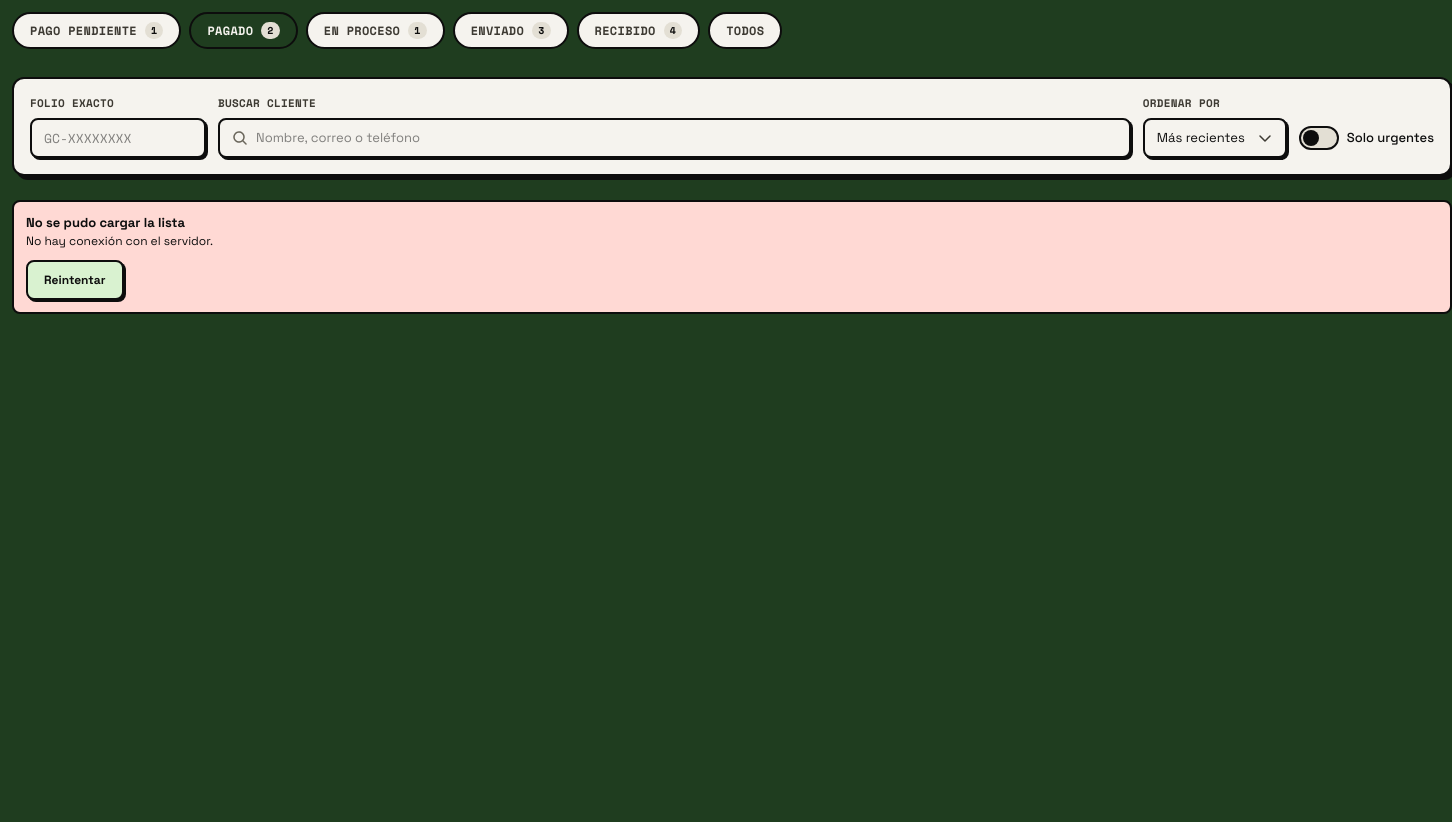
Test: OrdersPage: vista previa, lote y estados › si la lista falla muestra el error de la API y reintenta
Expected: the text "No hay conexión con el servidor." is shown, [26,232,213,252]
Click the button "Reintentar". click: (75, 280)
box: [26,260,124,300]
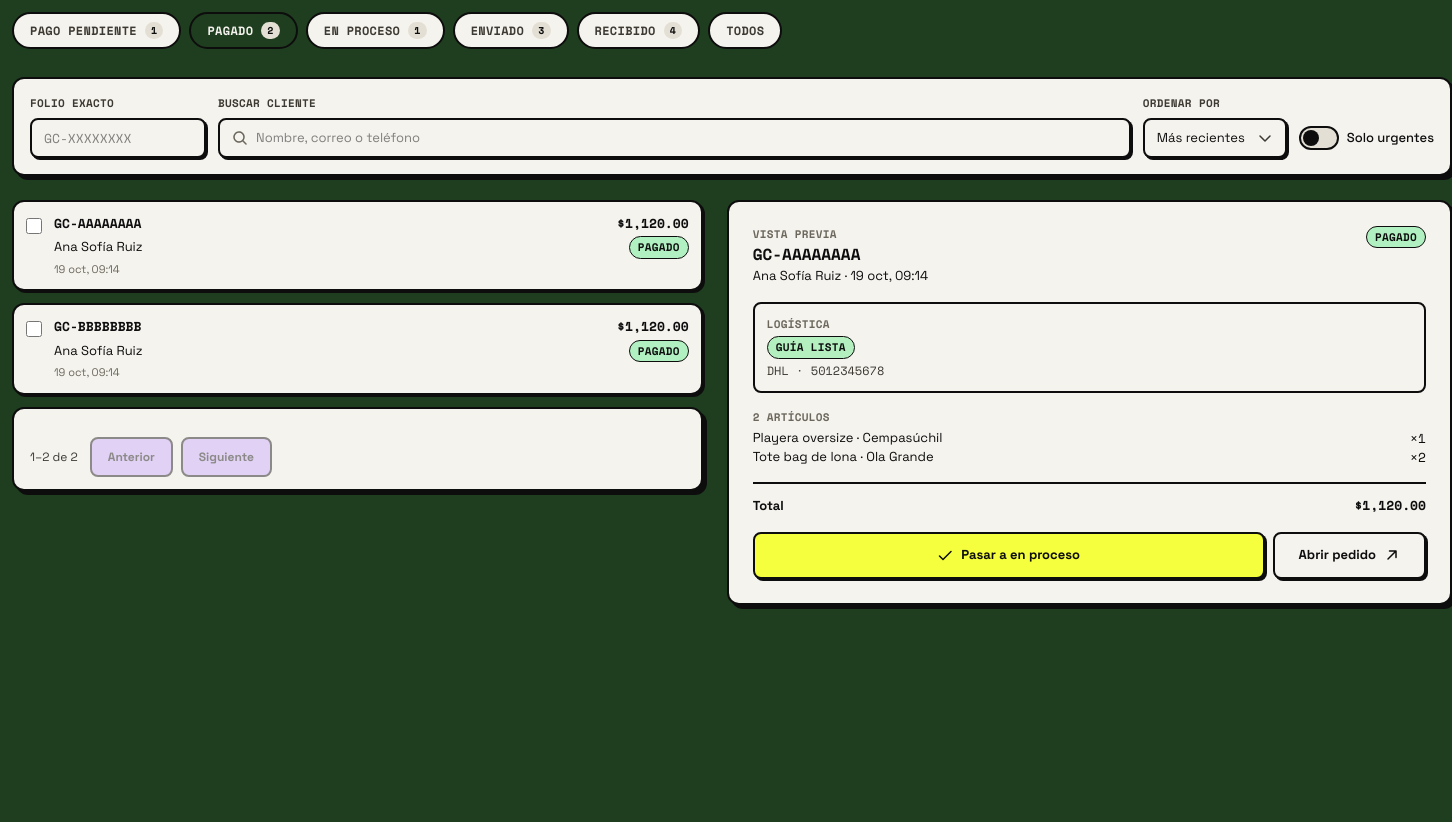
Now the link "GC-BBBBBBBB $1,120.00 Ana Sofía Ruiz pagado 19 oct, 09:14" is shown, box [54,317,689,381]
